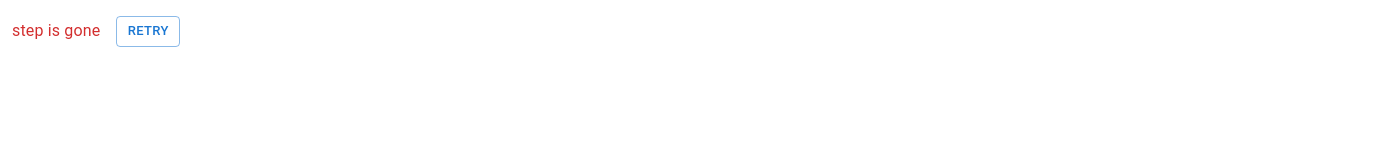
Scenario: StepDetail › offers Retry after an error and loads the step again
expect the text "step is not shown" is shown: met, box [12,19,100,43]
Click the button "Retry": {"x": 148, "y": 31} [116,16,180,47]
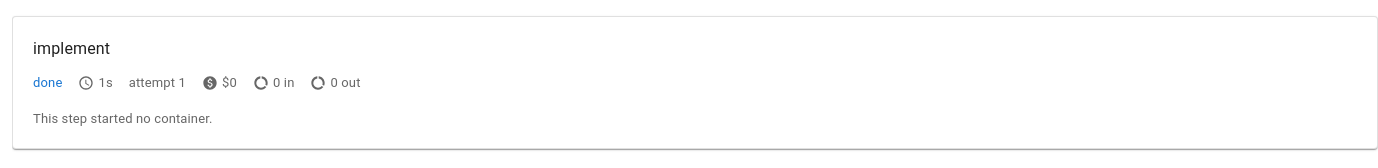
expect the text "implement" is shown: met, box [33,37,110,61]
expect the text "step is gone" is gone: met
